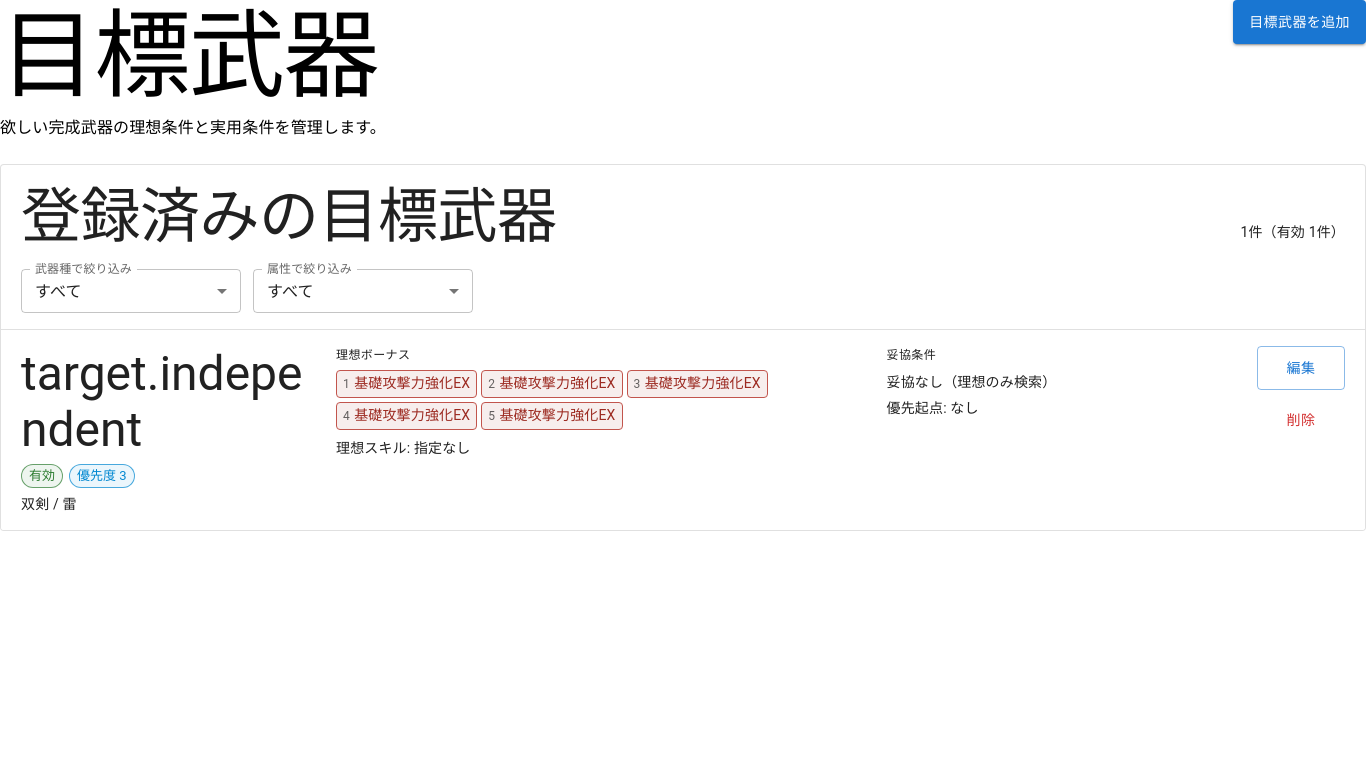
Test case: TargetWeaponsPage breaking-change warning › saves a Plan-independent edit without a warning when the inspection needs no approval
Click the button "編集".
click(1301, 368)  # box x1=1257 y1=346 x2=1345 y2=390
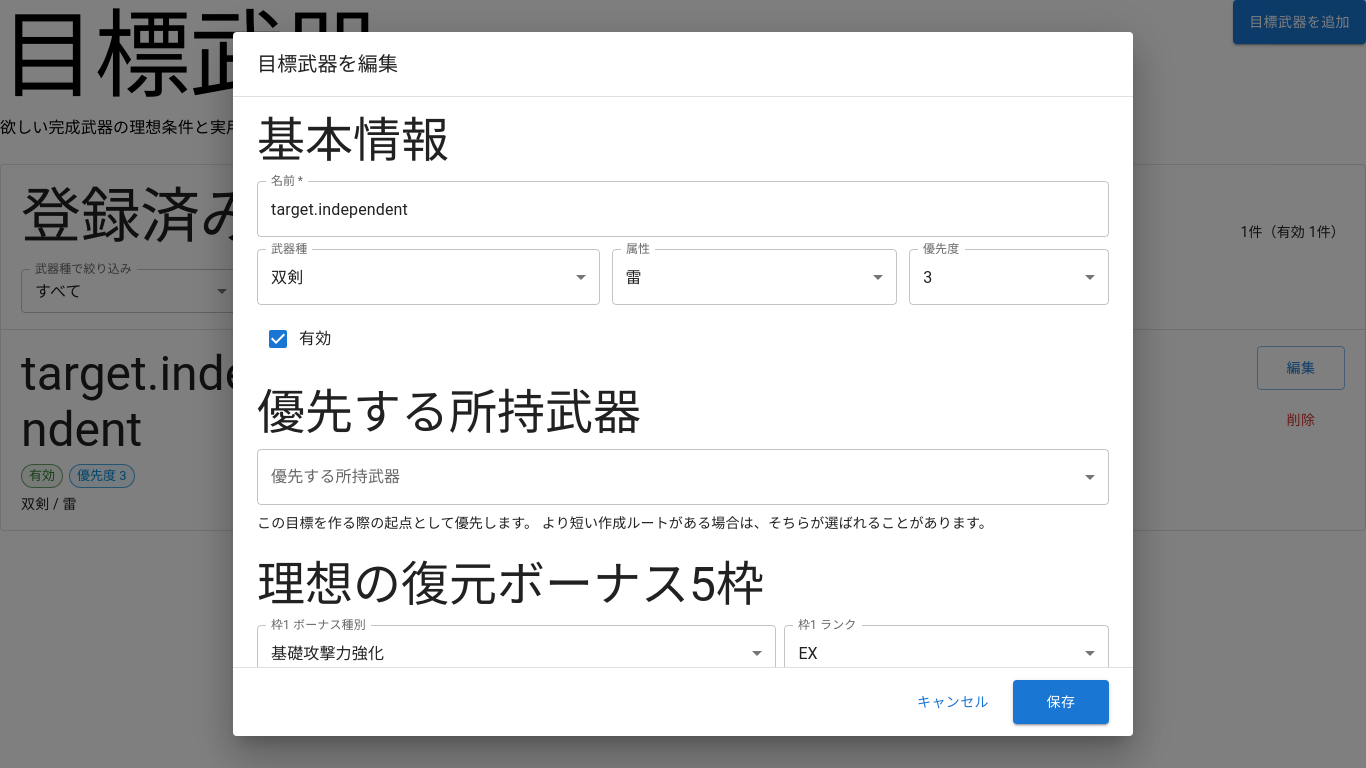
Click the checkbox labelled "有効".
click(299, 339)  # box x1=266 y1=327 x2=331 y2=351
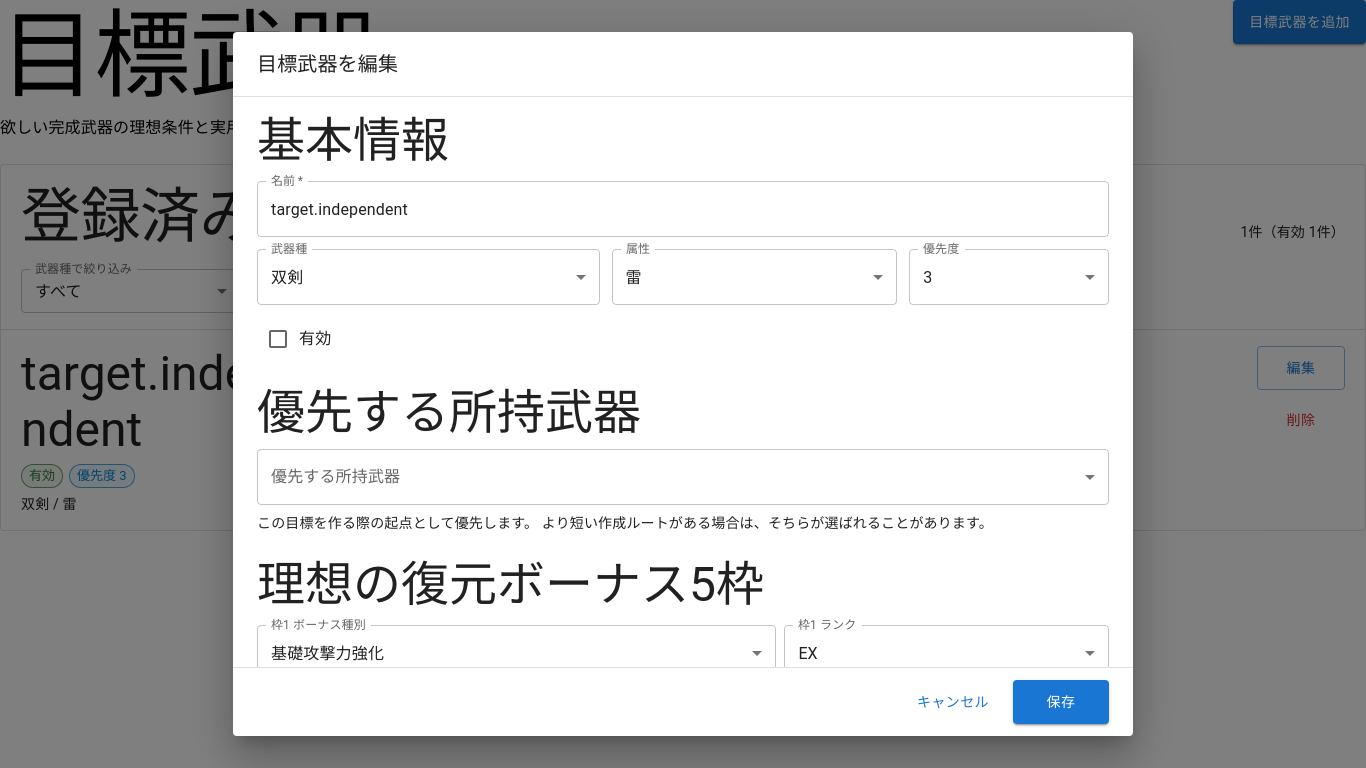
Click the button "保存".
click(1061, 702)  # box x1=1013 y1=680 x2=1109 y2=724
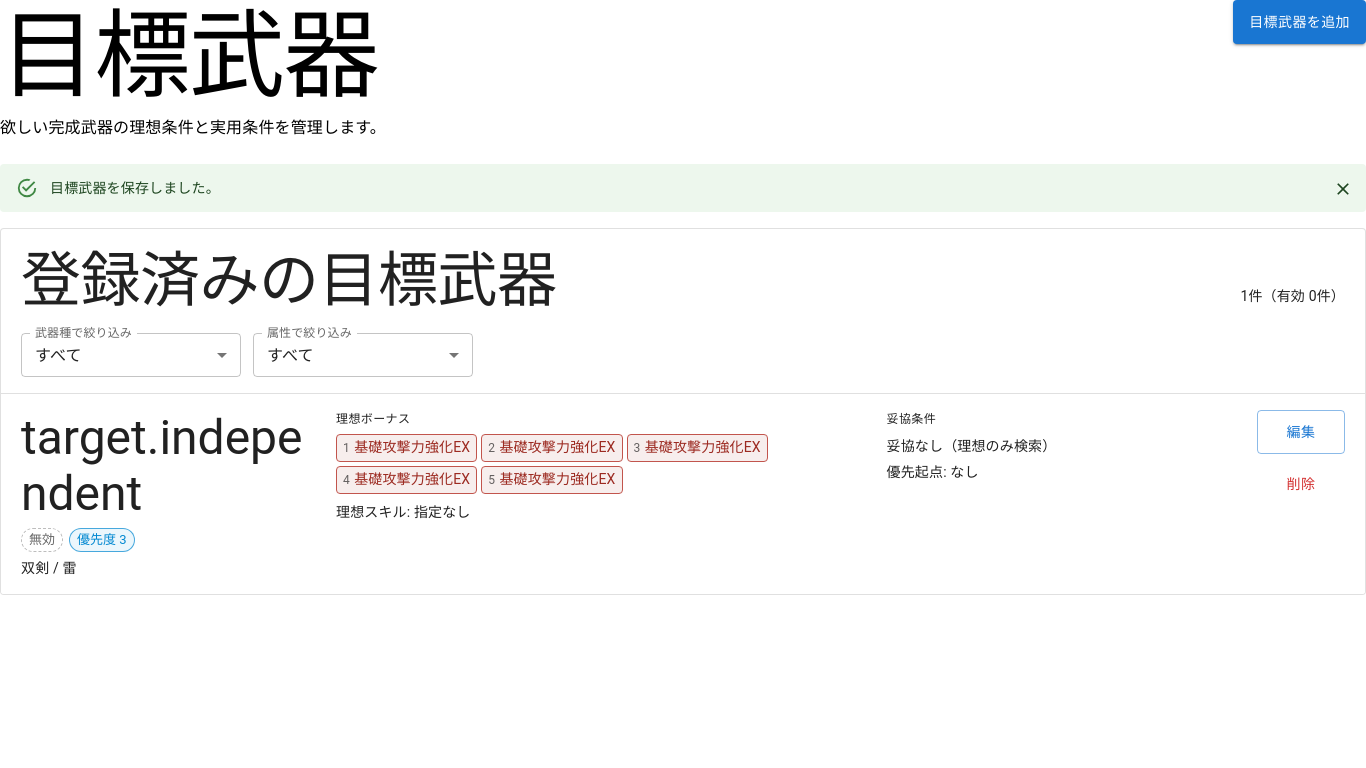
Check: the text "目標武器を保存しました。" is shown, box x1=50 y1=180 x2=220 y2=196
Check: the dialog is gone
